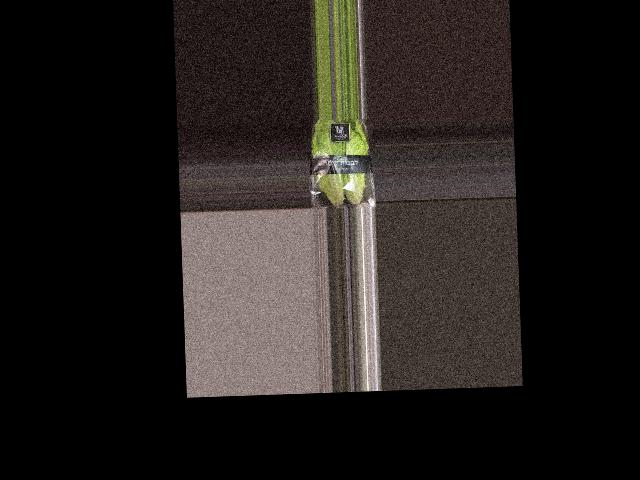lettuce: (312, 118, 375, 209)
